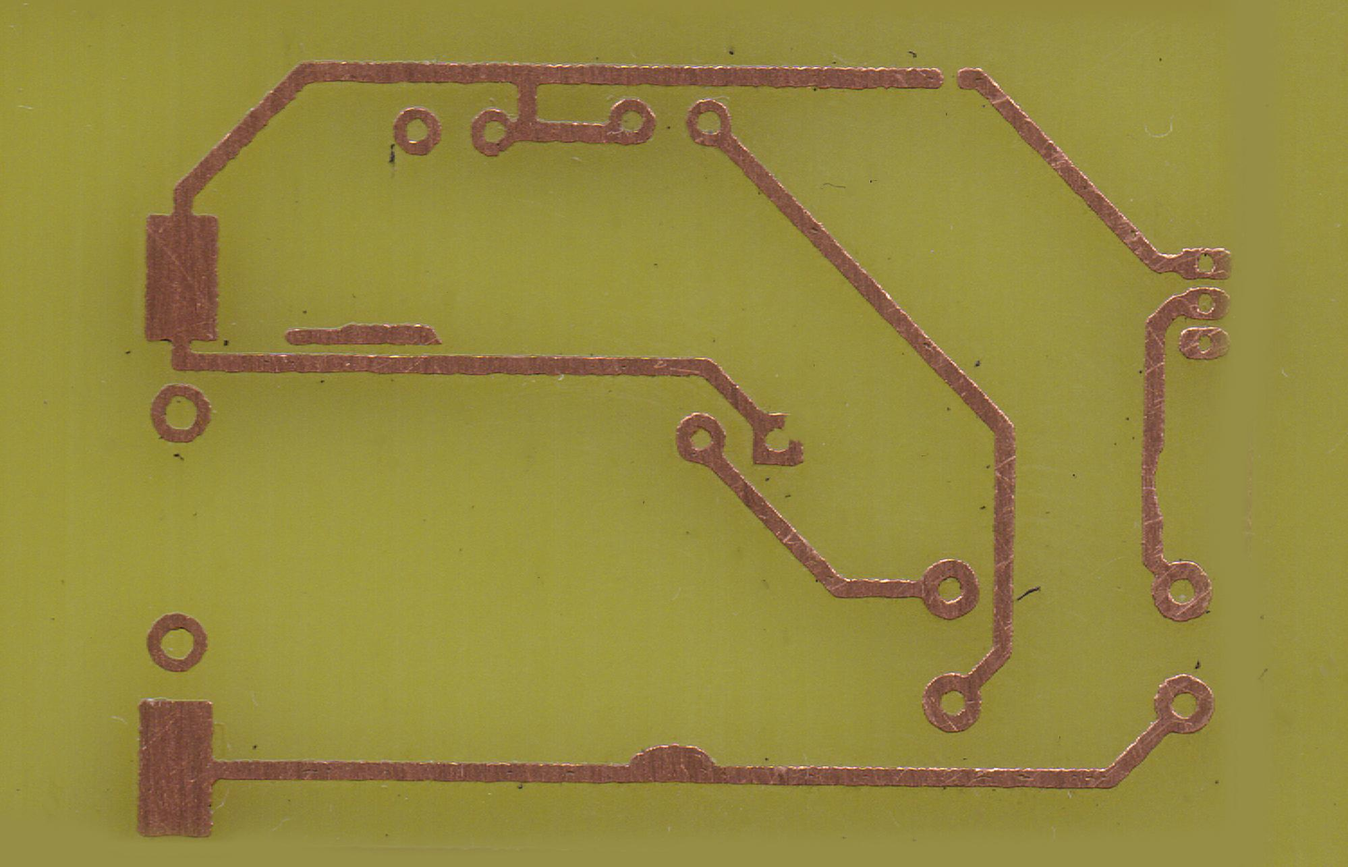missing_hole: (745, 414, 812, 470)
mouse_bite: (1140, 440, 1169, 526)
open_circuit: (929, 59, 970, 93)
short: (511, 56, 546, 141)
spur: (622, 737, 723, 793)
spurious_copper: (279, 319, 445, 350)
